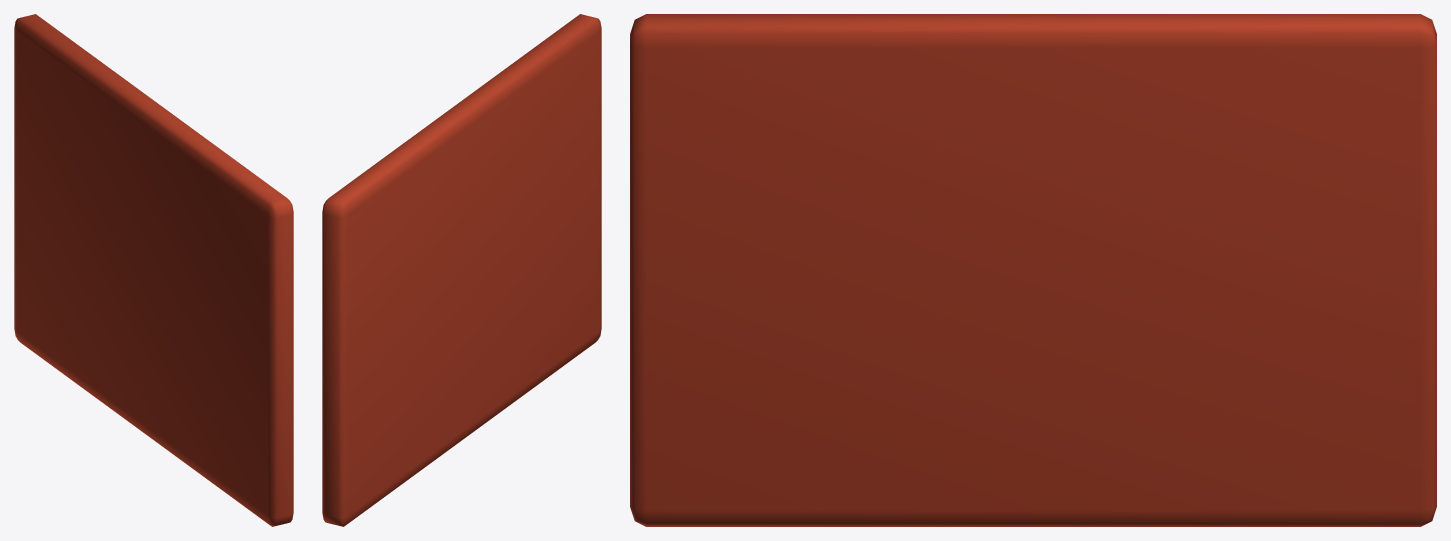
The model's file is MOD_Poster.fbx.
3 views of the same model, side by side, from view 1: azimuth 30°, elevation 25°; view 2: azimuth 150°, elevation 25°; view 3: azimuth 270°, elevation 25° (orthographic). The views are drawn at different scales.
Visible parts, largest first — view 1: MOD_Poster; view 2: MOD_Poster; view 3: MOD_Poster.
Part boxes in pixels (x1,y1,x2,y2): MOD_Poster: (14,14,293,526); MOD_Poster: (322,14,601,526); MOD_Poster: (630,14,1436,526).
Size of the model in its own units: 7.35 by 97.77 by 142.
